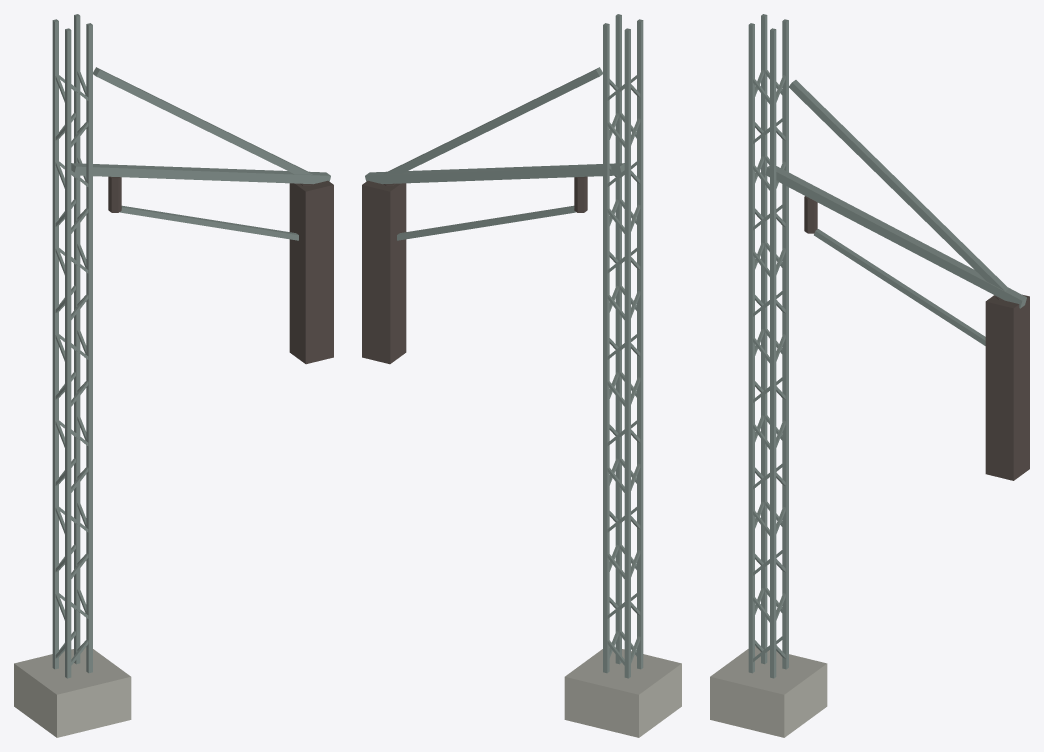
File: SM_poste_catenaria_v2_LOD0.fbx
3 renders of one model, left to right at view 1: azimuth 30°, elevation 25°; view 2: azimuth 150°, elevation 25°; view 3: azimuth 330°, elevation 25°, orthographic.
Visible parts, largest first — view 1: SM_bloques.poste_catenaria_v2_LOD0; view 2: SM_bloques.poste_catenaria_v2_LOD0; view 3: SM_bloques.poste_catenaria_v2_LOD0.
Part boxes in pixels (<box>): SM_bloques.poste_catenaria_v2_LOD0: <box>14,14,333,737</box>; SM_bloques.poste_catenaria_v2_LOD0: <box>362,14,681,737</box>; SM_bloques.poste_catenaria_v2_LOD0: <box>710,14,1029,737</box>.
Bounding box in the file's own units: 3.55 × 8 × 0.9.
